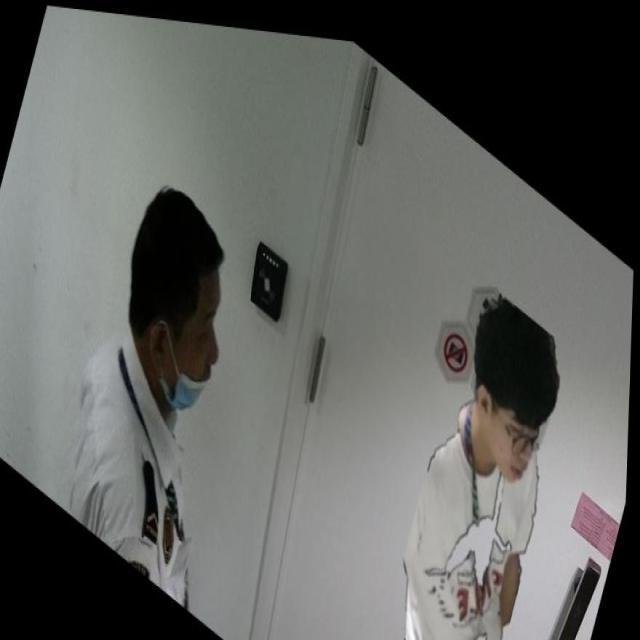hairnet: (159, 264, 236, 429)
